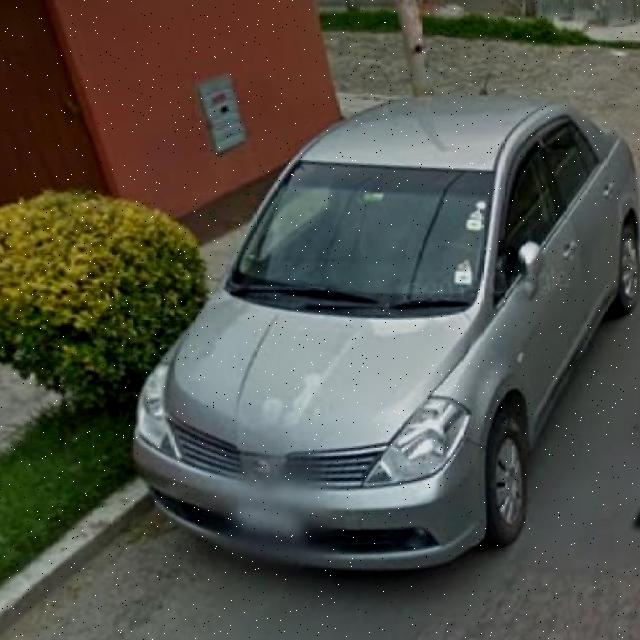car: (137, 83, 640, 582)
